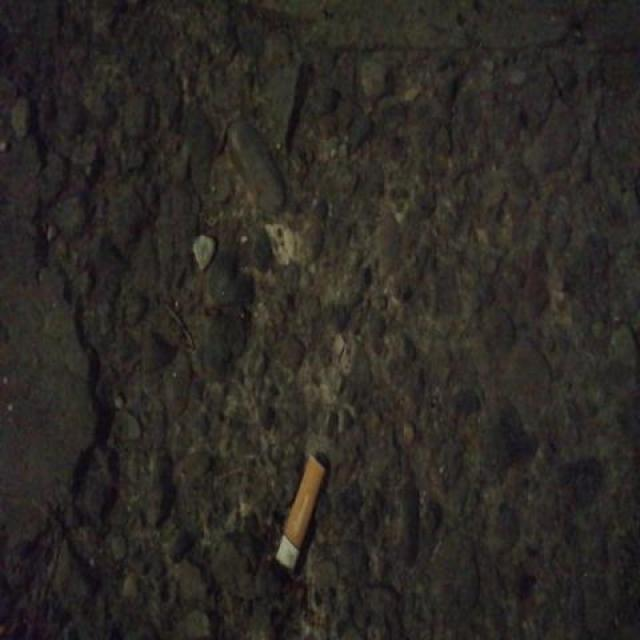non-organic waste: (272, 450, 328, 575)
